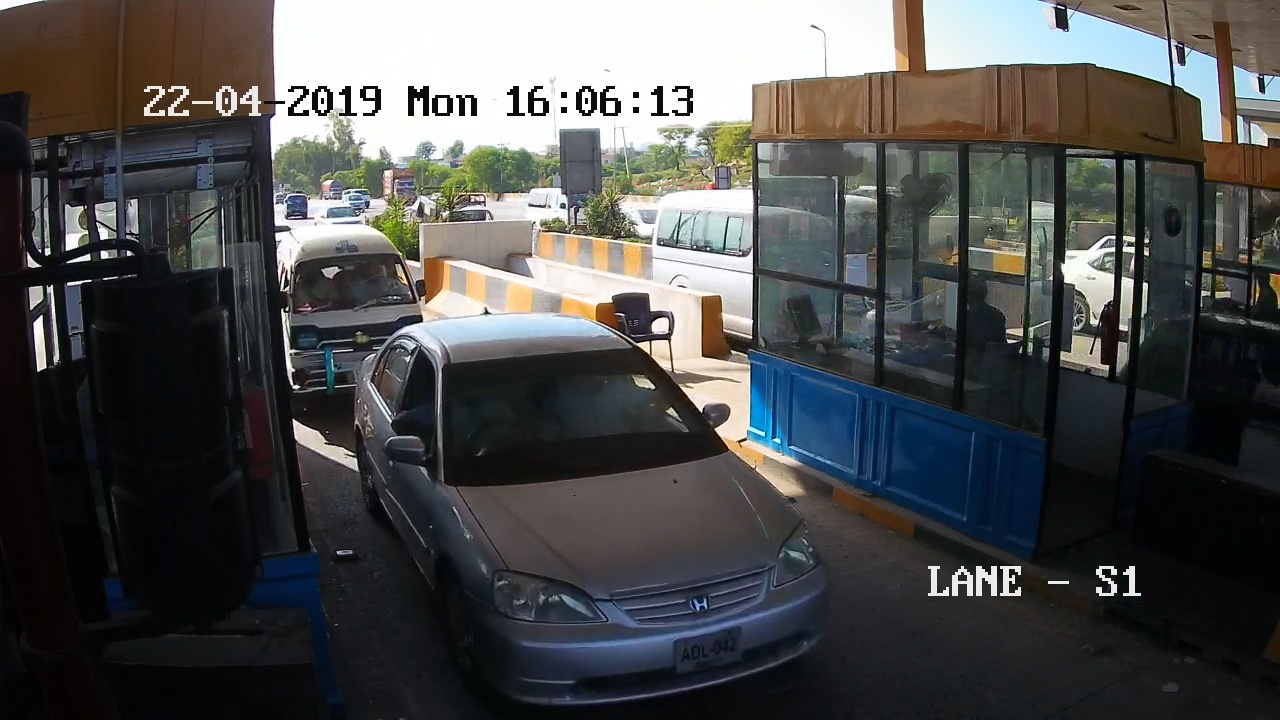Number Plate (Car): (673, 633, 741, 667)
